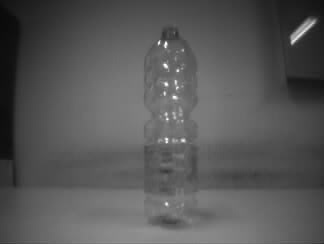Bottle: (142, 22, 198, 230)
